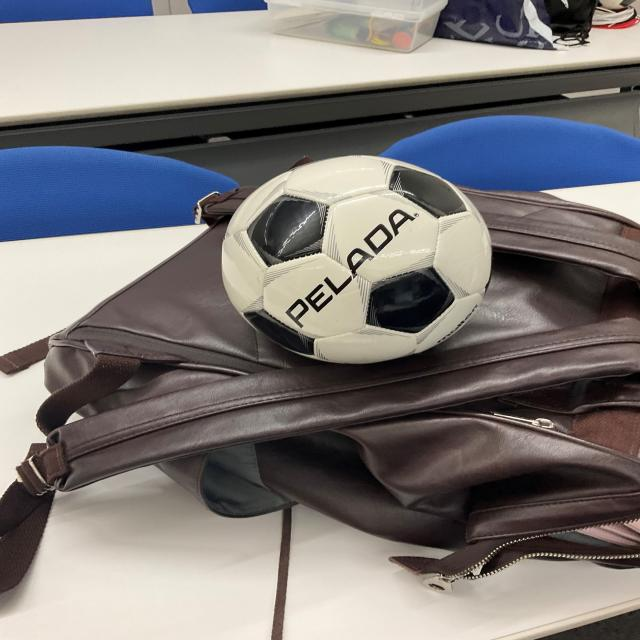ball: (228, 155, 496, 366), (226, 155, 494, 366)
